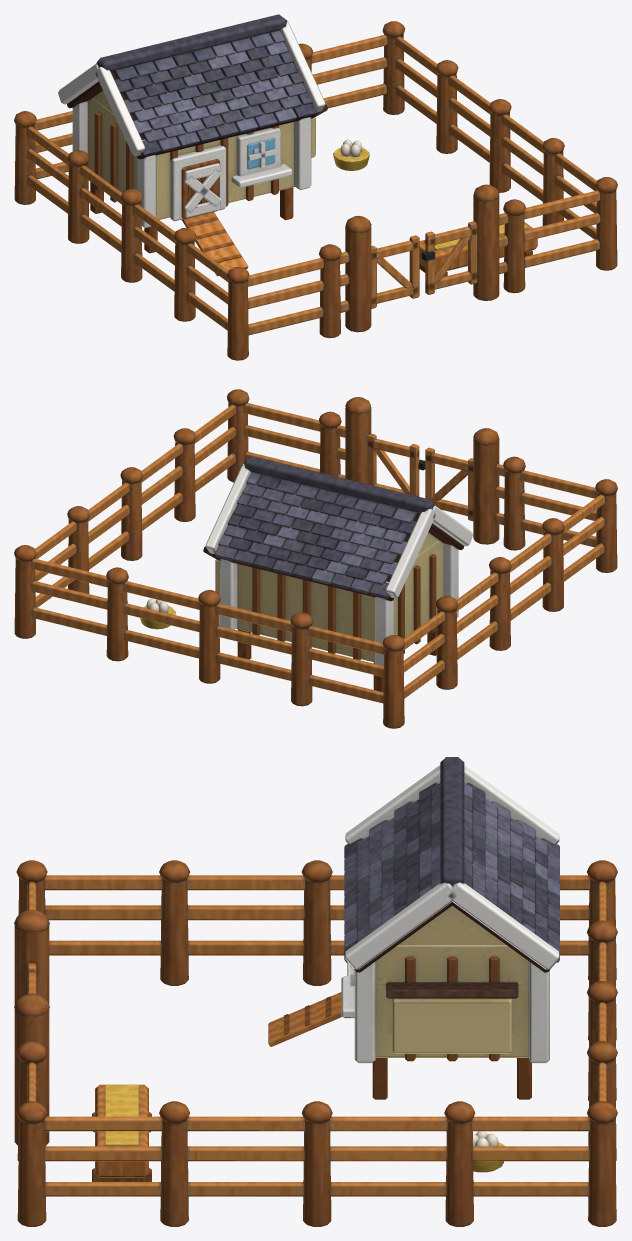
The model's file is brahma_coop.glb.
The picture shows the model from 3 angles, top to bottom: view 1: azimuth 30°, elevation 25°; view 2: azimuth 150°, elevation 25°; view 3: azimuth 270°, elevation 25°; orthographic projection. The views are drawn at different scales.
Parts seen in each view (by area): view 1: brahma_coop, gate1, gate0; view 2: brahma_coop, gate1, gate0; view 3: brahma_coop.
Part boxes in pixels (x1,y1,x2,y2): brahma_coop: (14, 14, 617, 360); gate1: (421, 221, 477, 294); gate0: (371, 235, 419, 308); brahma_coop: (14, 389, 617, 728); gate1: (367, 433, 425, 496); gate0: (425, 447, 473, 521); brahma_coop: (14, 757, 617, 1226).
Size of the model in its own units: 2 by 0.8813 by 2.01.
1 material, 1 textured.
